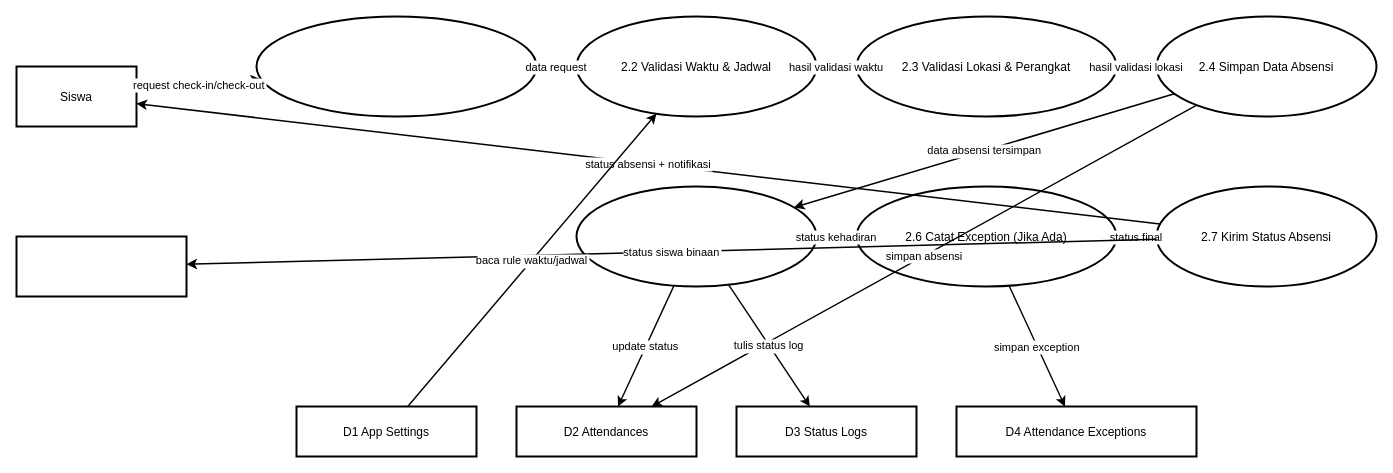
Some shapes in this 1393 by 473 pixel diagram are drawn without their labels. The shapes that lost their labels are listed below. From the top down, each one's centre as x and y in pixels, then its label:
the point at 396,66: 2.1 Terima Permintaan Check-in/Check-out
the point at 696,236: 2.5 Hitung Status Kehadiran
the point at 101,266: Pembimbing PKL
